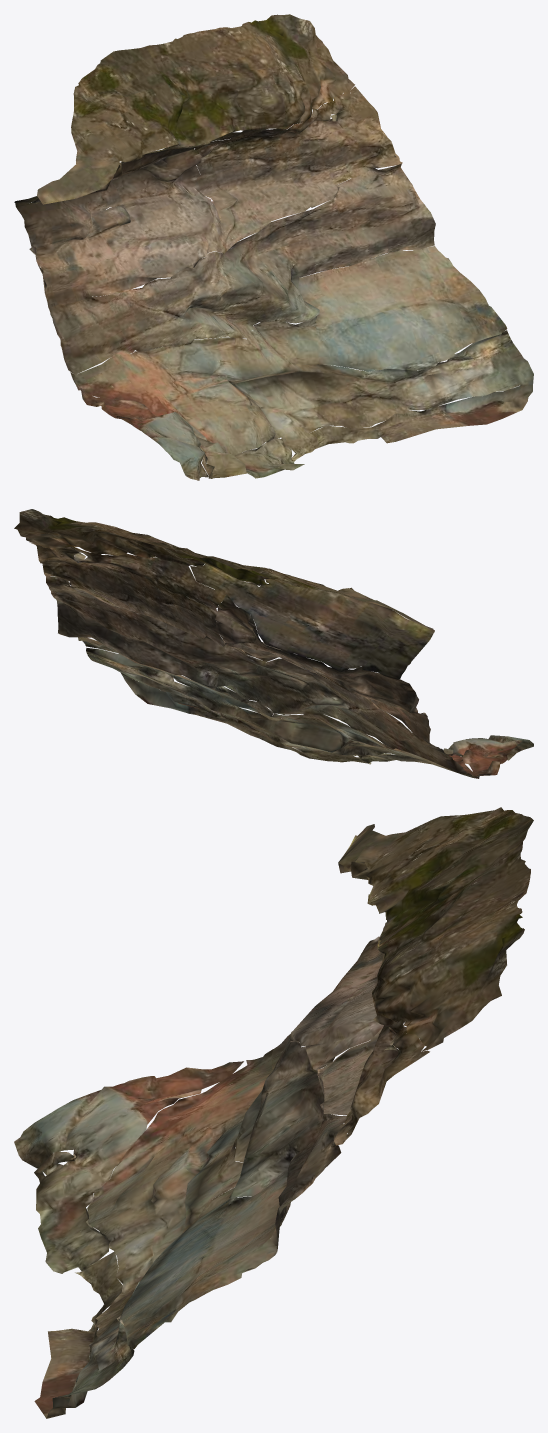
The model's file is rock_face_01.glb.
3 views of the same model, one above another, from view 1: azimuth 30°, elevation 25°; view 2: azimuth 150°, elevation 25°; view 3: azimuth 270°, elevation 25° (orthographic). The views are drawn at different scales.
Parts seen in each view (by area): view 1: rock_face_01; view 2: rock_face_01; view 3: rock_face_01.
Part boxes in pixels (left/top/right/bottom): rock_face_01: left=14, top=14, right=533, bottom=480; rock_face_01: left=14, top=509, right=533, bottom=778; rock_face_01: left=14, top=807, right=533, bottom=1418.
Size of the model in its own units: 4.95 by 3.57 by 3.83.
1 material, 1 textured.
